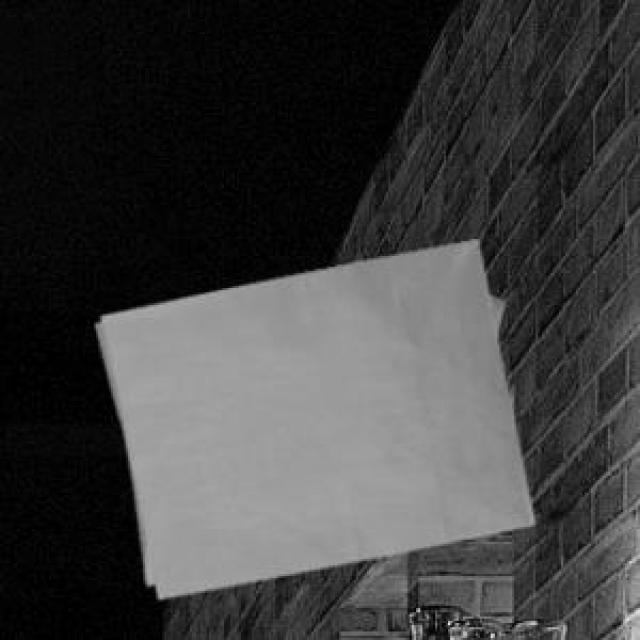paper: (92, 237, 529, 595)
